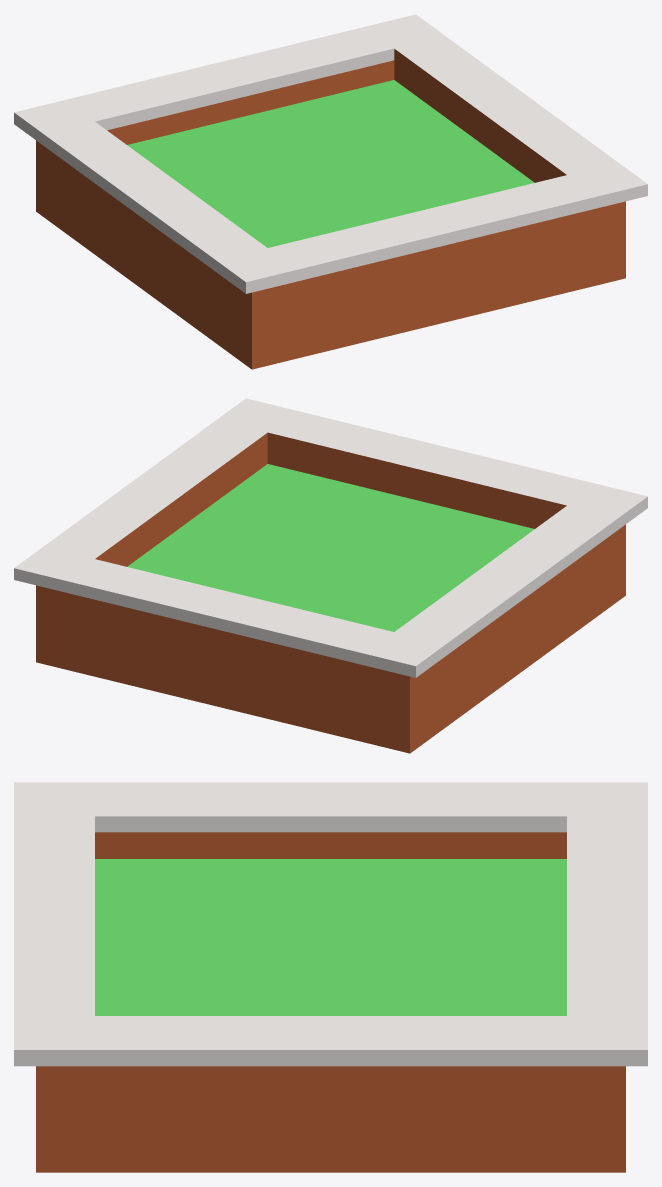
File: planterSquare.fbx
The picture shows the model from 3 angles, top to bottom: view 1: azimuth 30°, elevation 25°; view 2: azimuth 150°, elevation 25°; view 3: azimuth 270°, elevation 25°; orthographic projection. The views are drawn at different scales.
Visible parts, largest first — view 1: PlanterSqaure; view 2: PlanterSqaure; view 3: PlanterSqaure.
Part boxes in pixels (<box>): PlanterSqaure: <box>14,14,647,369</box>; PlanterSqaure: <box>14,398,647,753</box>; PlanterSqaure: <box>14,782,647,1172</box>.
Bounding box in the file's own units: 322 × 74.01 × 322.
